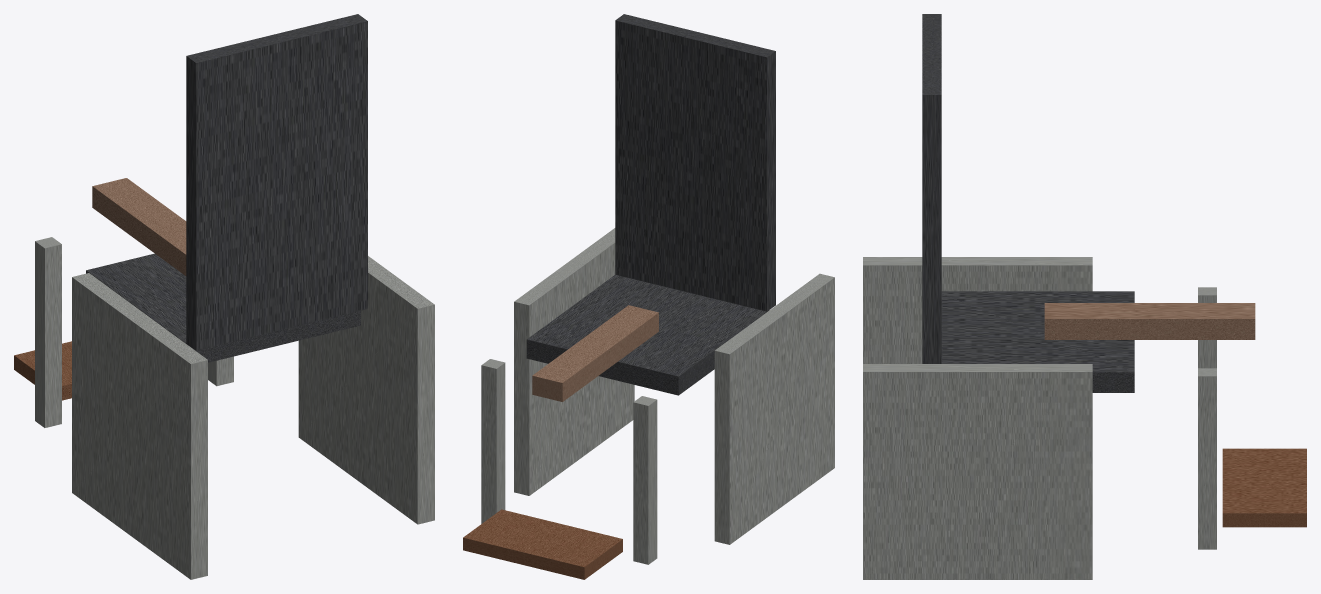
The model's file is wheelchair.glb.
3 renders of one model, left to right at view 1: azimuth 30°, elevation 25°; view 2: azimuth 150°, elevation 25°; view 3: azimuth 270°, elevation 25°, orthographic. The views are drawn at different scales.
Visible parts, largest first — view 1: synthetic; view 2: synthetic; view 3: synthetic.
Boxes of the visible parts, x1,y1,x2,y2 form: synthetic: [14, 14, 434, 579]; synthetic: [463, 14, 834, 579]; synthetic: [863, 14, 1306, 579].
Size of the model in its own units: 2.27 by 4.32 by 3.71.
1 material, 1 textured.
